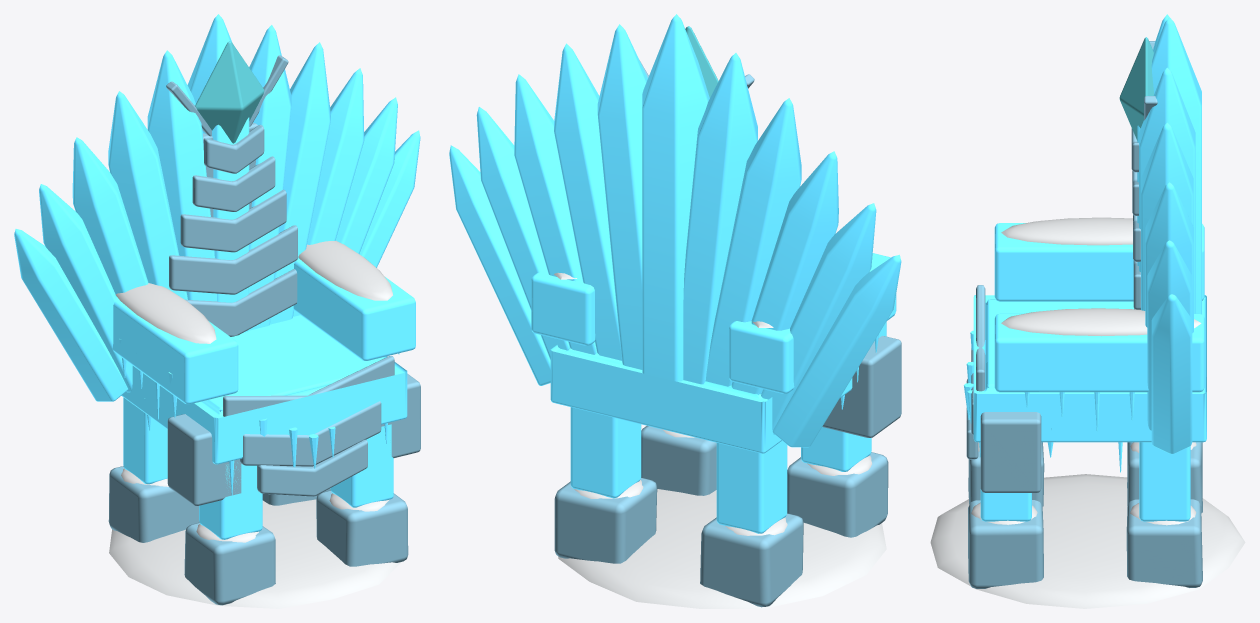
File: FrostbiteIceThrone.fbx
3 views of the same model, side by side, from view 1: azimuth 30°, elevation 25°; view 2: azimuth 150°, elevation 25°; view 3: azimuth 270°, elevation 25° (orthographic). The views are drawn at different scales.
Visible parts, largest first — view 1: Seat, Snow_Base_Mound, Shard_Mid_L2, Armrest_L, Armrest_R, Shard_Flank_L5, Shard_Mid_R2, Shard_Inner_L1, Shard_Outer_L3, Shard_Wing_L4, FootBlock_FL, Shard_Outer_R3 (+23 smaller); view 2: Shard_Center_0, Snow_Base_Mound, Shard_Inner_L1, Seat, Shard_Inner_R1, Shard_Mid_L2, Shard_Mid_R2, Shard_Flank_L5, Shard_Outer_L3, Shard_Outer_R3, Shard_Wing_L4, FootBlock_BL (+12 smaller); view 3: Snow_Base_Mound, Seat, Armrest_R, Armrest_L, Shard_Flank_R5, FootBlock_FR, FootBlock_BR, Armrest_Pillar_R, Shard_Center_0, Leg_BR, SnowCap_Armrest_R, Shard_Mid_R2 (+9 smaller).
Part boxes in pixels (x1,y1,x2,y2): Seat: (121, 315, 407, 464); Snow_Base_Mound: (109, 499, 401, 608); Shard_Mid_L2: (108, 91, 187, 299); Armrest_L: (112, 297, 238, 404); Armrest_R: (293, 259, 415, 360); Shard_Flank_L5: (14, 229, 128, 401); Shard_Mid_R2: (270, 42, 330, 324); Shard_Inner_L1: (147, 50, 216, 301); Shard_Outer_L3: (72, 137, 148, 296); Shard_Wing_L4: (39, 184, 132, 392); FootBlock_FL: (184, 522, 275, 605); Shard_Outer_R3: (293, 68, 364, 316); Shard_Center_0: (642, 14, 709, 381); Snow_Base_Mound: (558, 489, 886, 608); Shard_Inner_L1: (683, 53, 757, 384); Seat: (550, 321, 886, 453); Shard_Inner_R1: (597, 24, 647, 369); Shard_Mid_L2: (705, 98, 801, 386); Shard_Mid_R2: (554, 43, 621, 360); Shard_Flank_L5: (772, 254, 901, 447); Shard_Outer_L3: (731, 151, 838, 394); Shard_Outer_R3: (514, 74, 596, 354); Shard_Wing_L4: (761, 203, 876, 434); FootBlock_BL: (700, 513, 803, 607); Snow_Base_Mound: (930, 474, 1245, 608); Seat: (973, 295, 1206, 442); Armrest_R: (994, 313, 1204, 392); Armrest_L: (994, 223, 1204, 301); Shard_Flank_R5: (1151, 294, 1192, 454); FootBlock_FR: (968, 500, 1043, 588); FootBlock_BR: (1126, 499, 1202, 587); Armrest_Pillar_R: (980, 412, 1041, 492); Shard_Center_0: (1137, 17, 1201, 314); Leg_BR: (1139, 442, 1190, 521); SnowCap_Armrest_R: (1001, 308, 1201, 336); Shard_Mid_R2: (1141, 122, 1193, 310).
Size of the model in its own units: 2.1 by 2.49 by 1.35.
